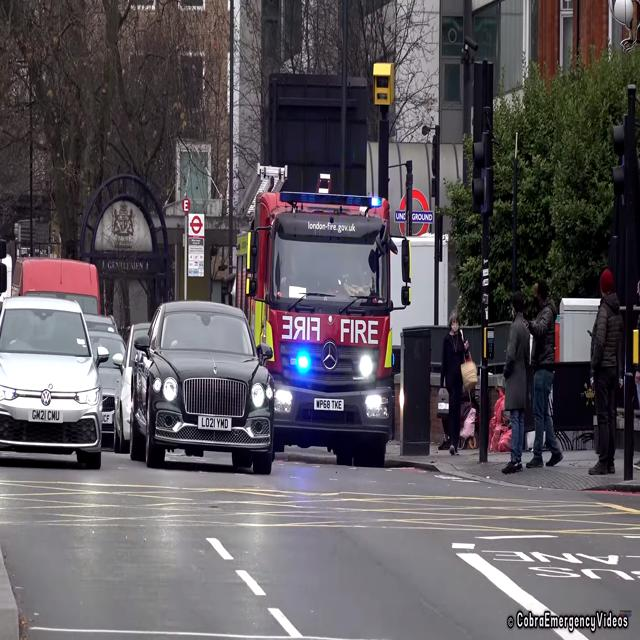emergency-vehicles: (229, 165, 403, 486)
